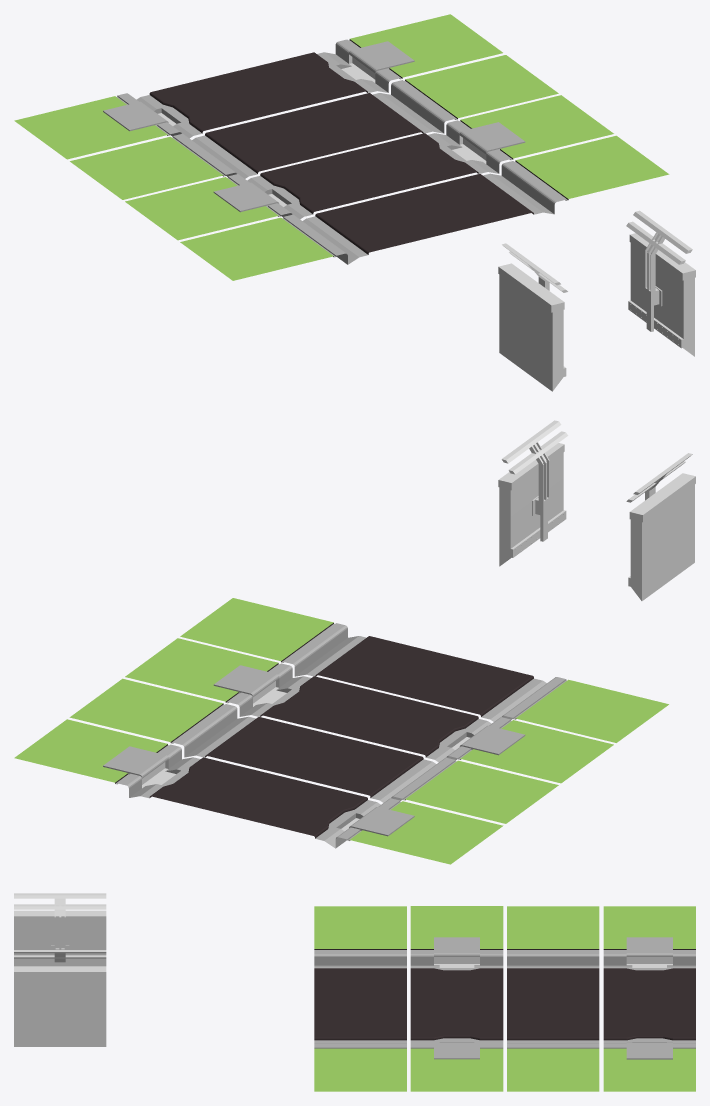
Rendered from WR_Bridge.fbx.
The picture shows the model from 3 angles, top to bottom: view 1: azimuth 30°, elevation 25°; view 2: azimuth 150°, elevation 25°; view 3: azimuth 270°, elevation 25°; orthographic projection. The views are drawn at different scales.
Visible parts, largest first — view 1: Plane, Plane.001, Plane.003, Plane.002, Bridge; view 2: Plane.003, Plane.002, Plane.001, Plane, Bridge; view 3: Plane.001, Plane, Plane.002, Plane.003, Bridge.
Part boxes in pixels (box(x1,y1,x2,y2)): Plane: box(180, 135, 669, 280); Plane.001: box(125, 95, 613, 240); Plane.003: box(14, 14, 502, 159); Plane.002: box(70, 55, 558, 199); Bridge: box(498, 210, 695, 391); Plane.003: box(14, 719, 503, 864); Plane.002: box(69, 678, 558, 823); Plane.001: box(125, 638, 613, 783); Plane: box(180, 598, 668, 742); Bridge: box(498, 420, 695, 600); Plane.001: box(410, 906, 503, 1091); Plane: box(314, 906, 406, 1091); Plane.002: box(507, 906, 599, 1091); Plane.003: box(603, 906, 695, 1091); Bridge: box(14, 893, 106, 1046).
Size of the model in its own units: 1900 by 449 by 2951.
